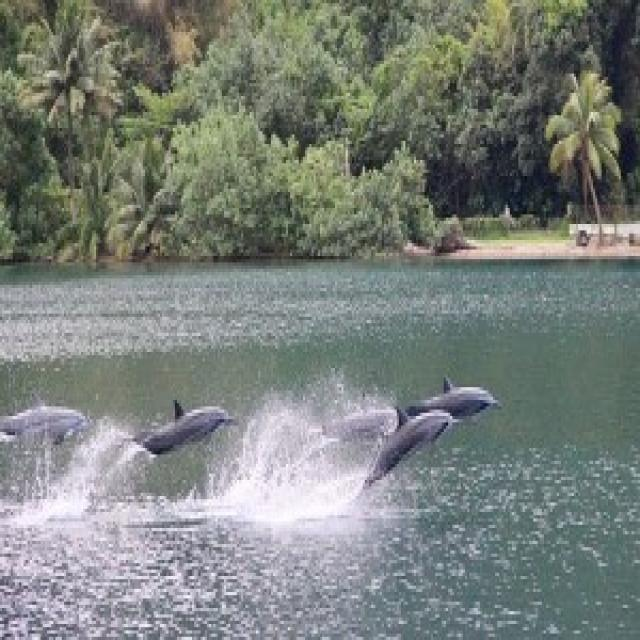Dolphin: (370, 416, 466, 498), (129, 396, 236, 460), (0, 394, 96, 462), (404, 374, 504, 412)
